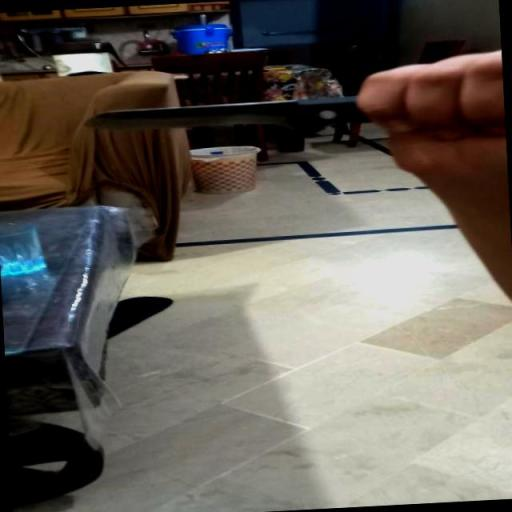knife: (64, 84, 506, 160)
